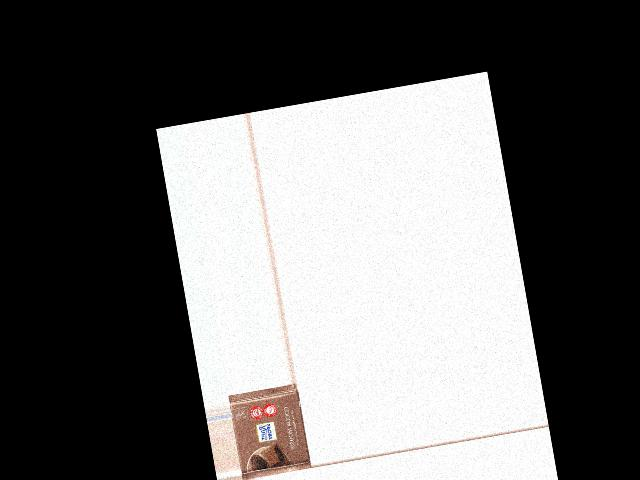chocolate: (228, 384, 312, 480)
